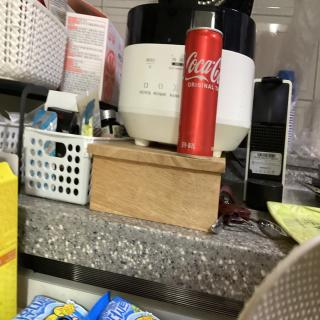cocacola: (172, 23, 228, 157)
